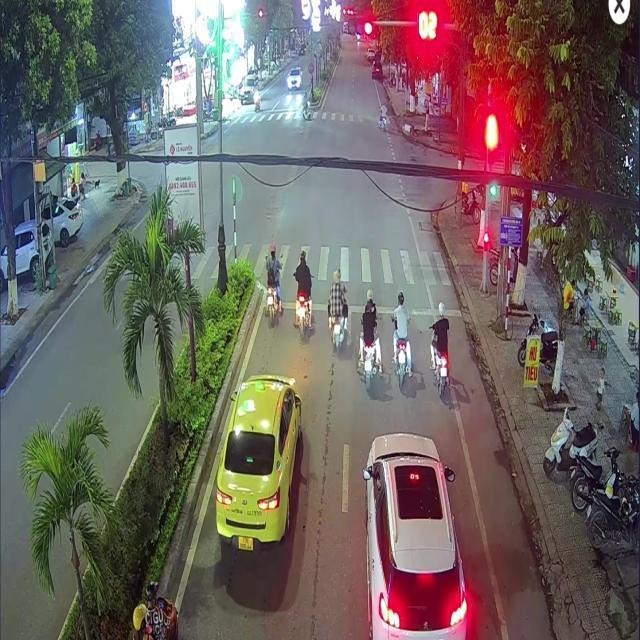car: (360, 430, 467, 639), (212, 370, 302, 552)
motobike: (145, 581, 178, 638), (430, 336, 447, 397), (359, 347, 380, 393), (295, 288, 311, 337), (328, 313, 345, 352), (264, 285, 281, 323), (394, 339, 406, 390)
red_light: (346, 15, 373, 36), (486, 135, 495, 168), (483, 236, 487, 254)
stop_line: (263, 299, 460, 315)
